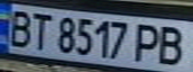1: (90, 17, 112, 59)
5: (72, 16, 96, 56)
7: (109, 18, 133, 60)
8: (51, 14, 78, 54)
B: (151, 23, 190, 66), (3, 7, 36, 47)
P: (130, 20, 166, 63)
T: (27, 10, 57, 51)
